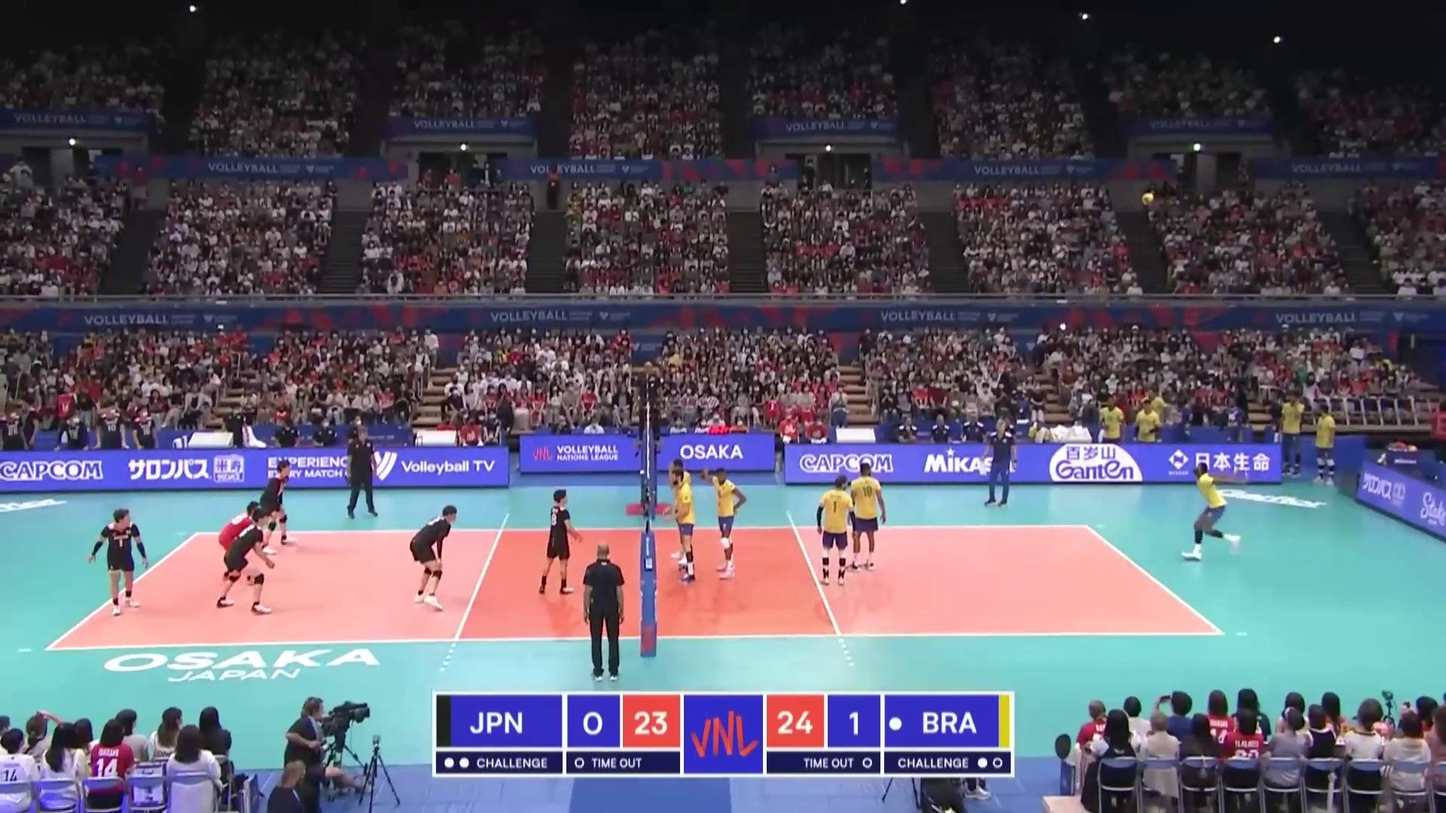player: (90, 508, 150, 617), (214, 508, 272, 613), (1181, 462, 1241, 560), (409, 504, 458, 612), (702, 467, 747, 580), (537, 488, 578, 598), (814, 476, 853, 588), (850, 463, 886, 572), (218, 502, 264, 585), (259, 462, 293, 555), (672, 470, 697, 586), (670, 457, 691, 561)
refree: (581, 542, 628, 681), (636, 361, 660, 449)
